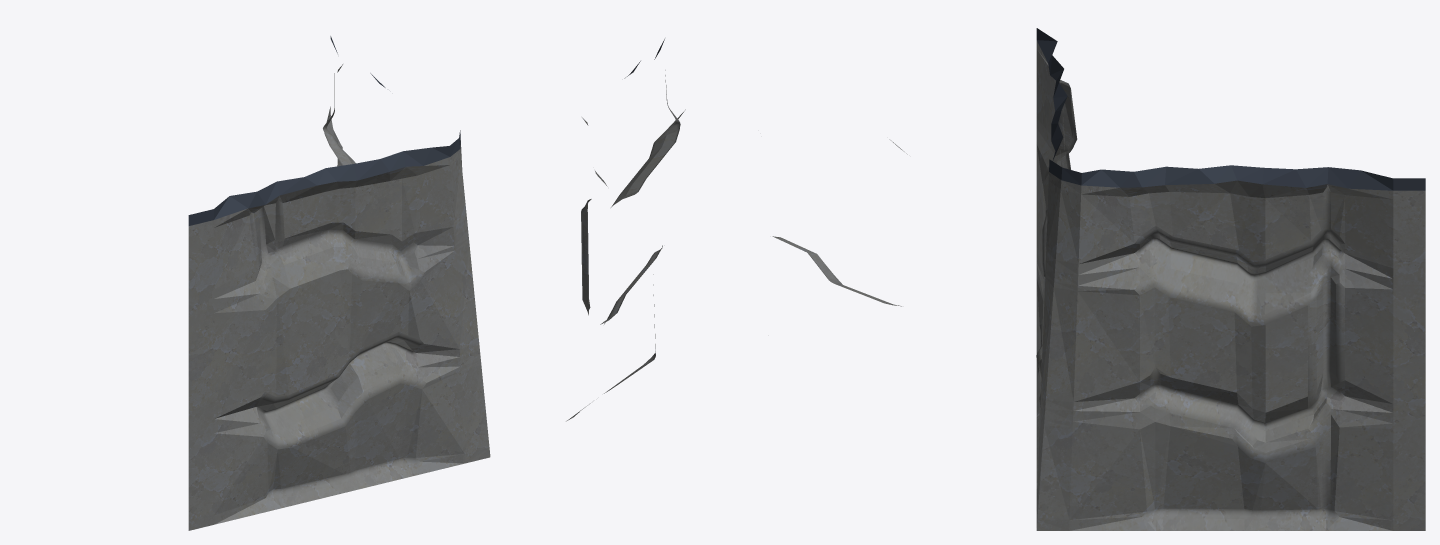
The model's file is cliff_wall_corner_b.glb.
3 renders of one model, left to right at view 1: azimuth 30°, elevation 25°; view 2: azimuth 150°, elevation 25°; view 3: azimuth 270°, elevation 25°, orthographic. The views are drawn at different scales.
Parts seen in each view (by area): view 1: CliffWall_corner_b_Body.001; view 2: CliffWall_corner_b_Body.001; view 3: CliffWall_corner_b_Body.001.
Boxes of the visible parts, box(x1,y1,x2,y2) form: CliffWall_corner_b_Body.001: box(188, 36, 490, 530); CliffWall_corner_b_Body.001: box(566, 39, 907, 421); CliffWall_corner_b_Body.001: box(1036, 28, 1425, 530).
Bounding box in the file's own units: 1 × 1 × 1.
5 materials, 2 textured.
